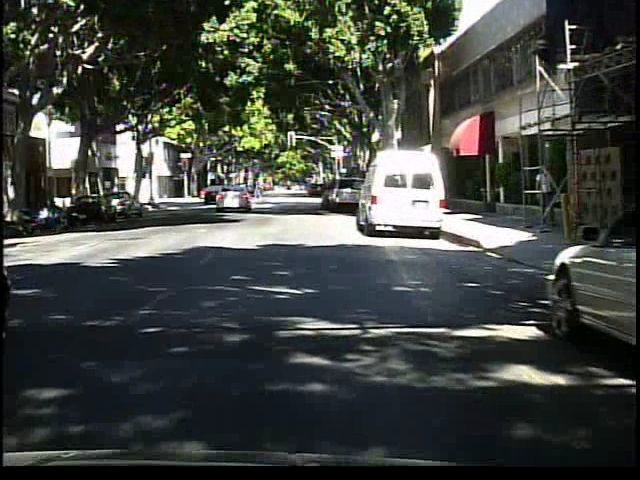person: (531, 161, 558, 233), (250, 175, 268, 208)
